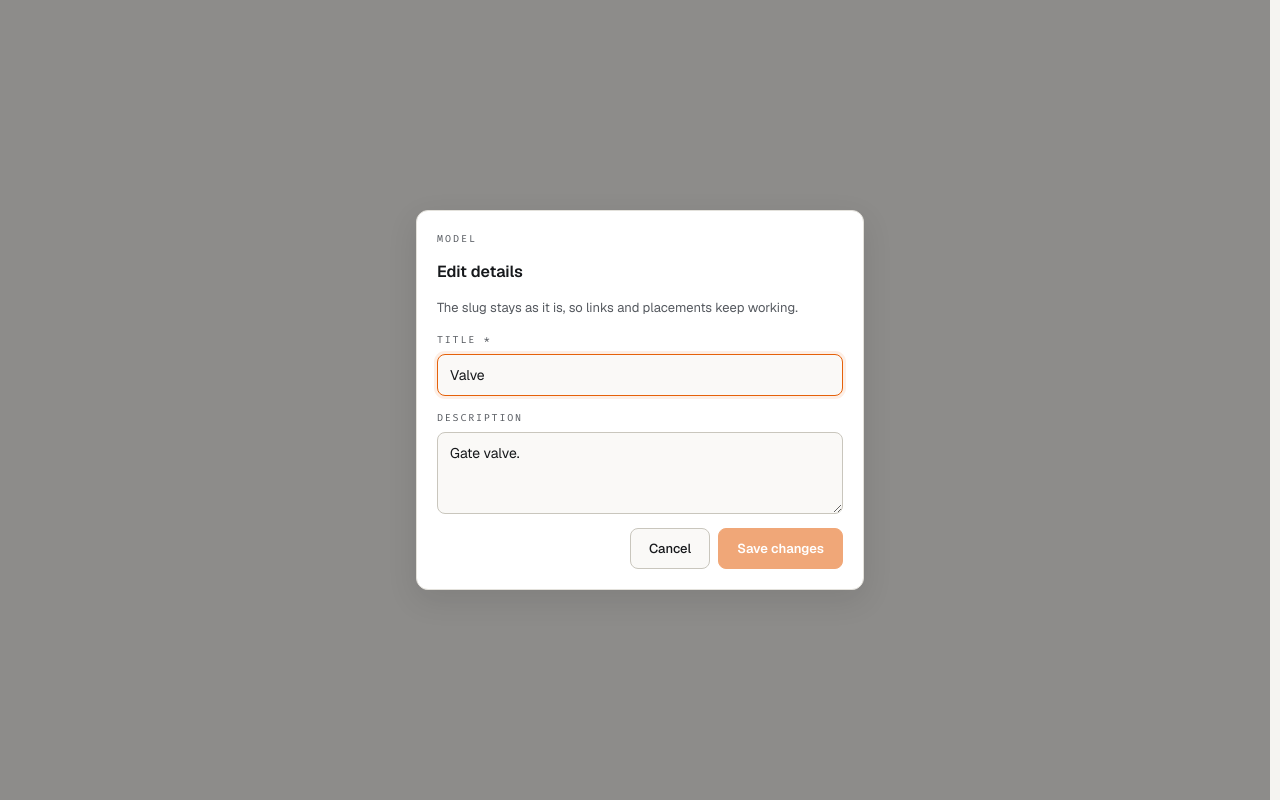
Test: EditDetailsDialog › writes the saved details into the model's own query and its library row
The image size is (1280, 800).
Replace the text in the text box labelled "Description" with "Ball valve." at (640,473), box 437,432 -> 843,514
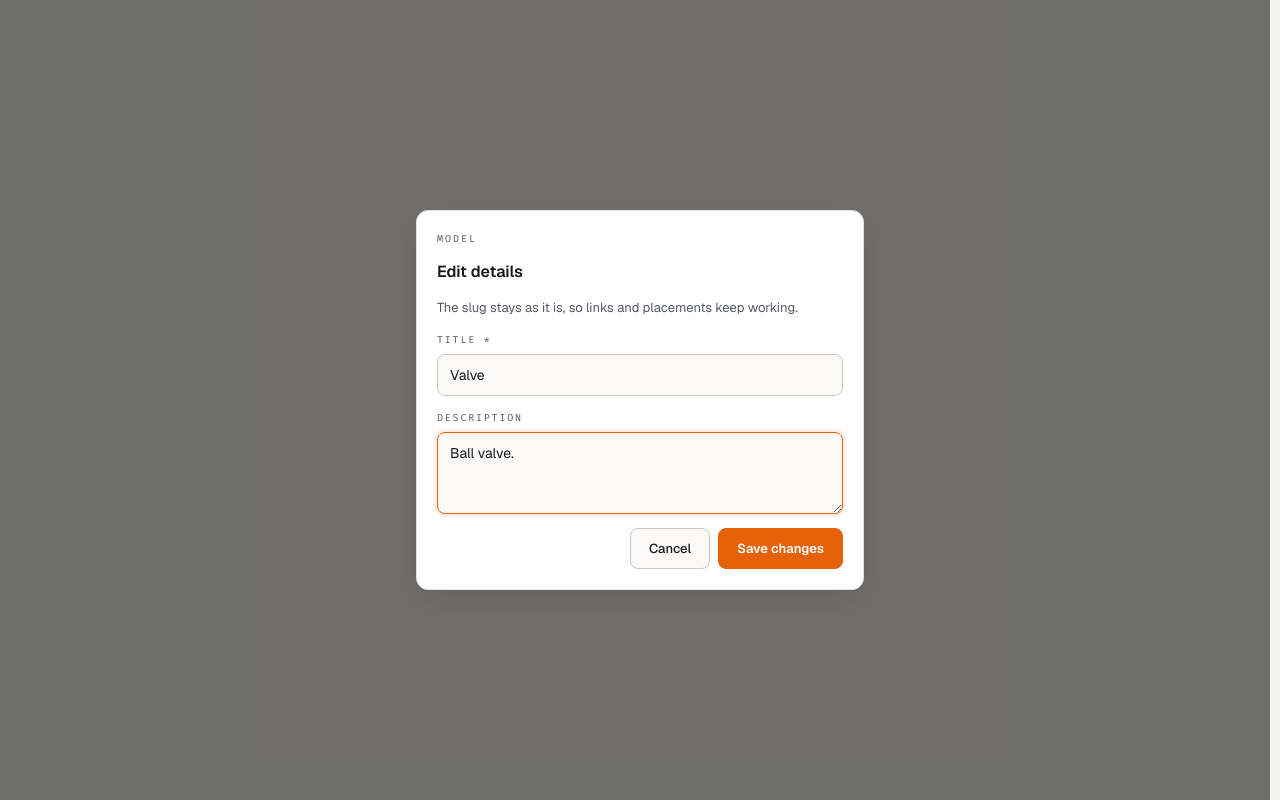
Click the button "Save changes" at (781,549), box 718,528 -> 843,569
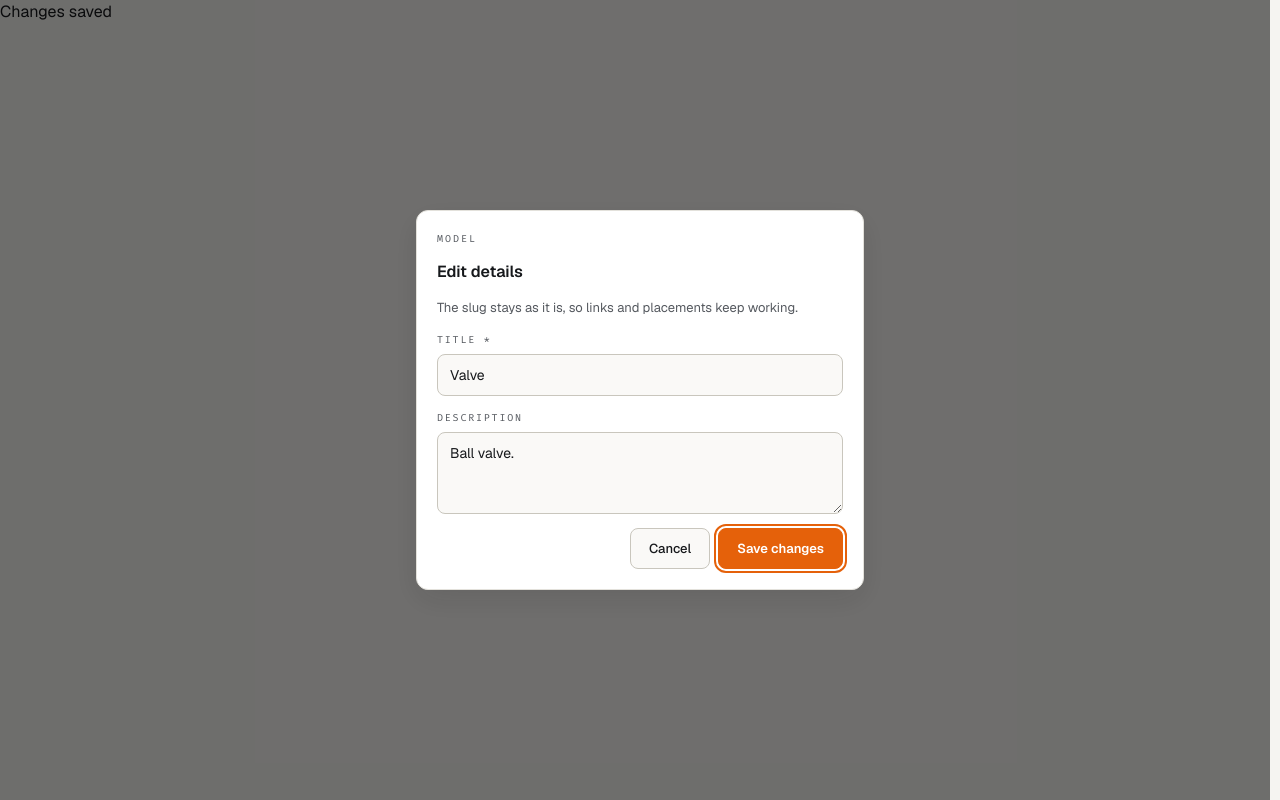
Now the text "Changes saved" is shown, box 0,1 -> 112,22
